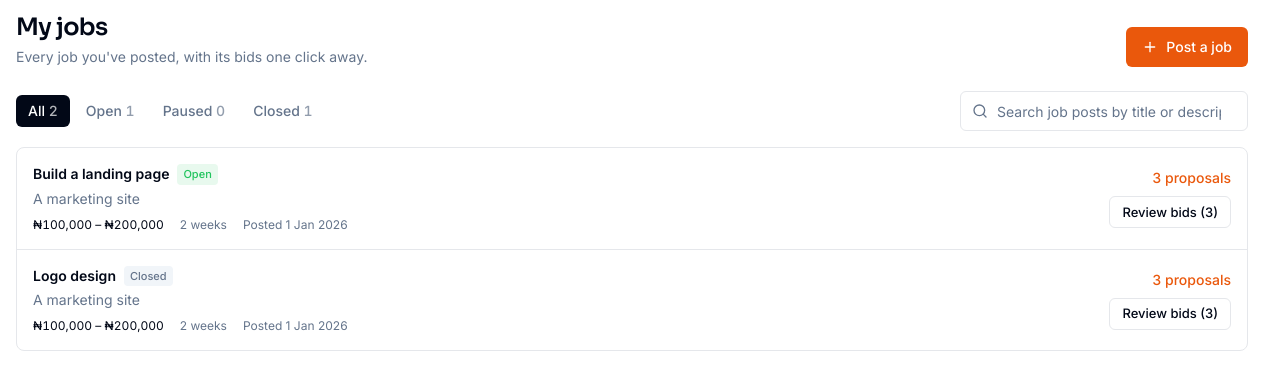
Test case: AgencyPosts › filters jobs by status with per-status counts
Step 1. Click the tab "Closed 1" → (283, 111), box [241,95,325,127]
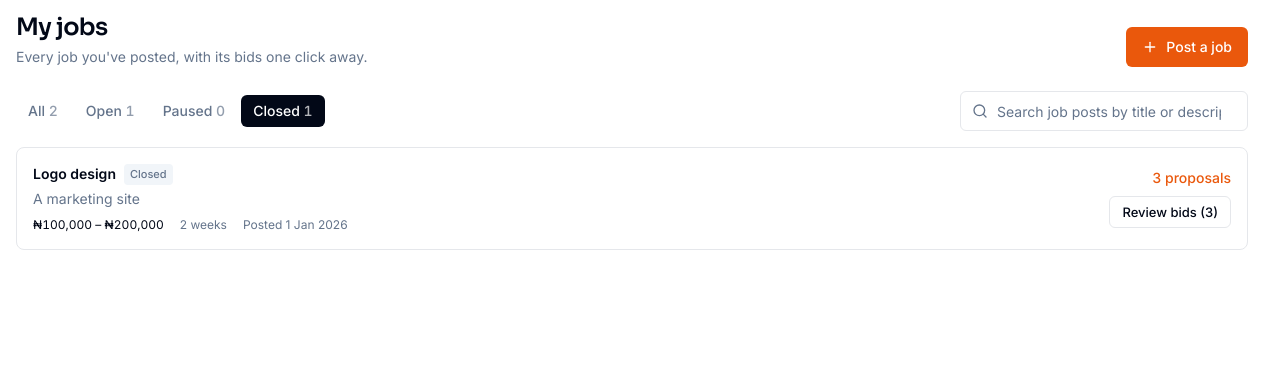
expect the heading "Logo design" is shown: met, box [33,164,116,184]
expect the heading "Build a landing page" is gone: met
